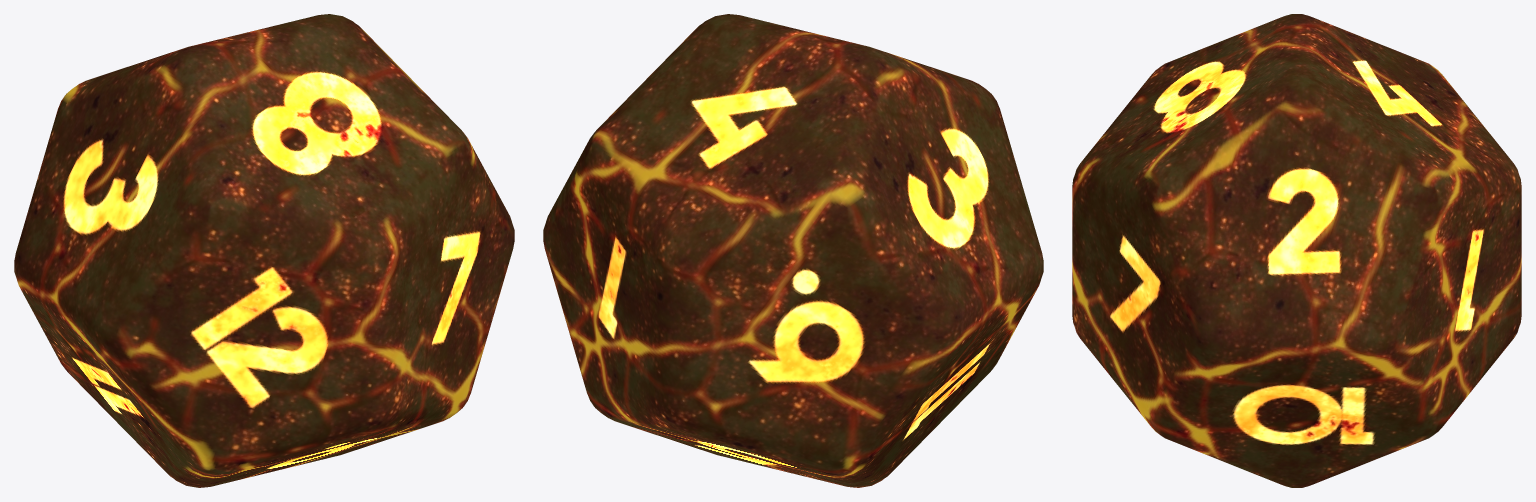
File: magma20_d12.gltf
The picture shows the model from 3 angles, left to right: view 1: azimuth 30°, elevation 25°; view 2: azimuth 150°, elevation 25°; view 3: azimuth 270°, elevation 25°; orthographic projection. The views are drawn at different scales.
Parts seen in each view (by area): view 1: dice_12; view 2: dice_12; view 3: dice_12.
Boxes of the visible parts, x1,y1,x2,y2 form: dice_12: [14, 14, 514, 487]; dice_12: [543, 14, 1043, 487]; dice_12: [1072, 14, 1521, 487].
Size of the model in its own units: 163 by 163 by 163.
1 material, 1 textured.
